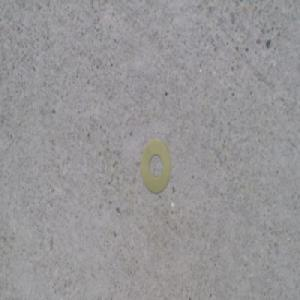Washer: (142, 140, 172, 191)
